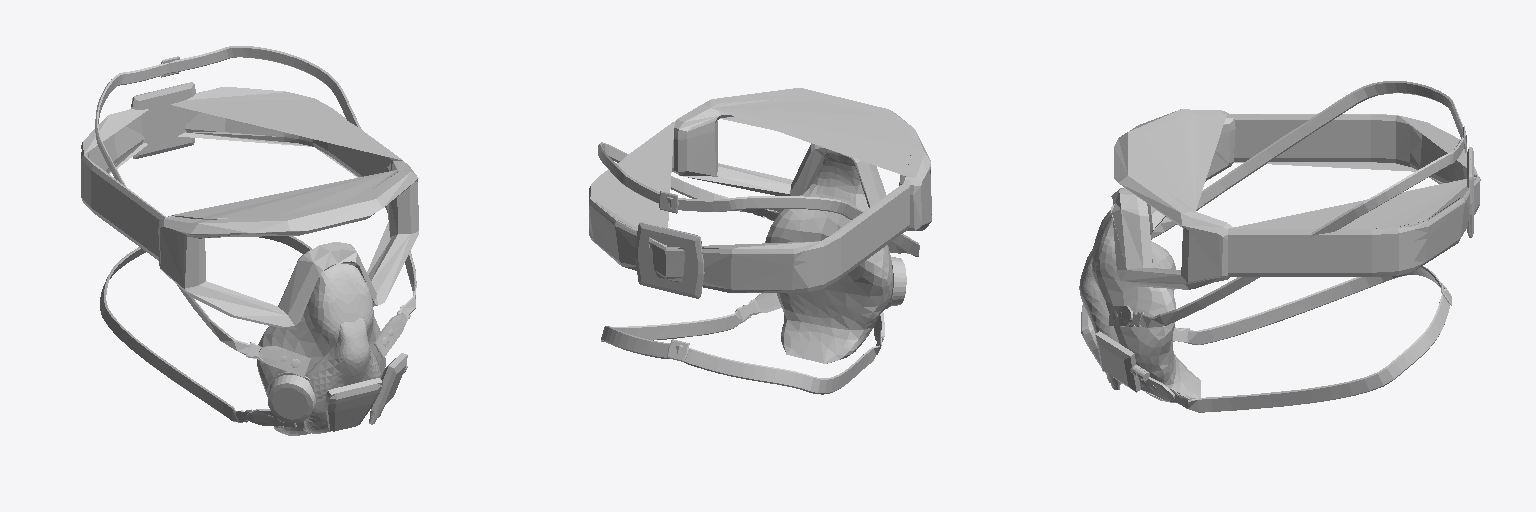
File: halomaskMERGE.obj
3 renders of one model, left to right at view 1: azimuth 30°, elevation 25°; view 2: azimuth 150°, elevation 25°; view 3: azimuth 270°, elevation 25°, orthographic.
Visible parts, largest first — view 1: bandeaumasque.000_Cube.041; view 2: bandeaumasque.000_Cube.041; view 3: bandeaumasque.000_Cube.041.
Boxes of the visible parts, x1,y1,x2,y2 form: bandeaumasque.000_Cube.041: [81, 46, 418, 435]; bandeaumasque.000_Cube.041: [589, 88, 931, 394]; bandeaumasque.000_Cube.041: [1079, 81, 1480, 412].
Size of the model in its own units: 0.175 by 0.1794 by 0.2437.